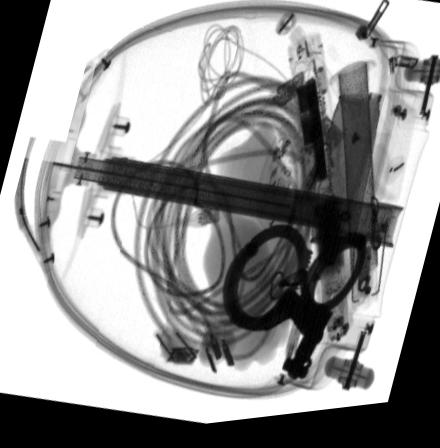Baton: (285, 42, 332, 191)
HandCuffs: (220, 230, 369, 390)
